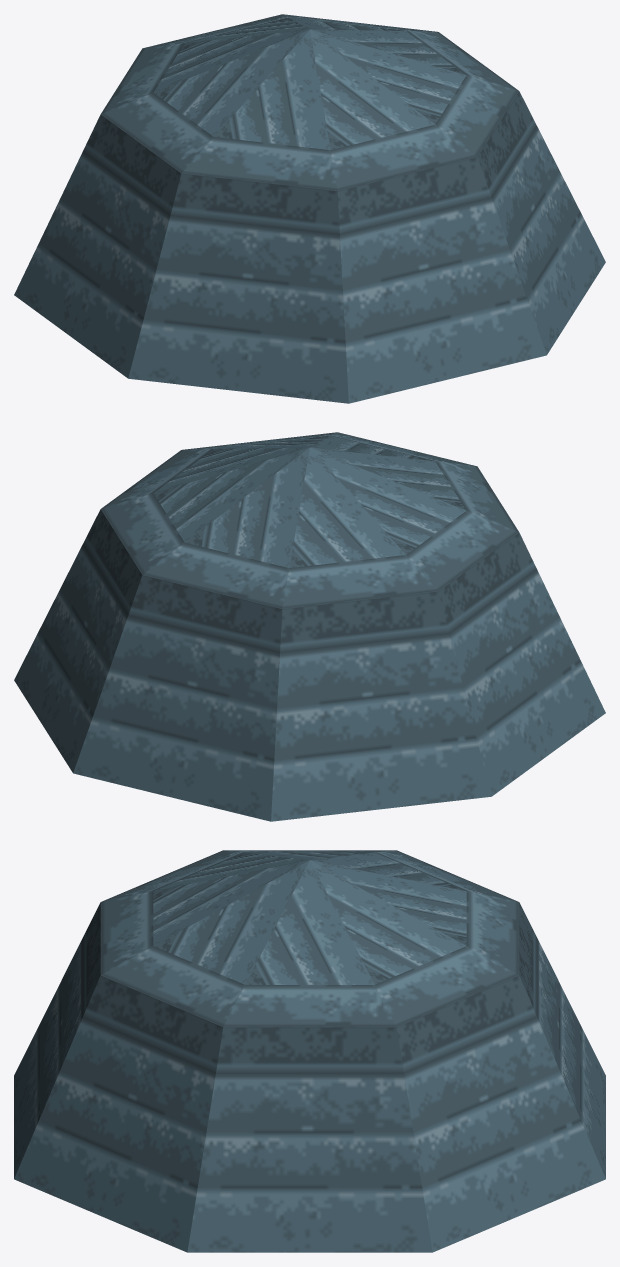
File: dome.fbx
3 views of the same model, one above another, from view 1: azimuth 30°, elevation 25°; view 2: azimuth 150°, elevation 25°; view 3: azimuth 270°, elevation 25° (orthographic). The views are drawn at different scales.
Parts seen in each view (by area): view 1: sphere; view 2: sphere; view 3: sphere.
Part boxes in pixels (left/top/right/bottom): sphere: left=14, top=14, right=605, bottom=403; sphere: left=14, top=432, right=605, bottom=821; sphere: left=14, top=850, right=605, bottom=1252.
Bounding box in the file's own units: 1011 × 506 × 1011.
Materials: 1 (1 with a texture image).
